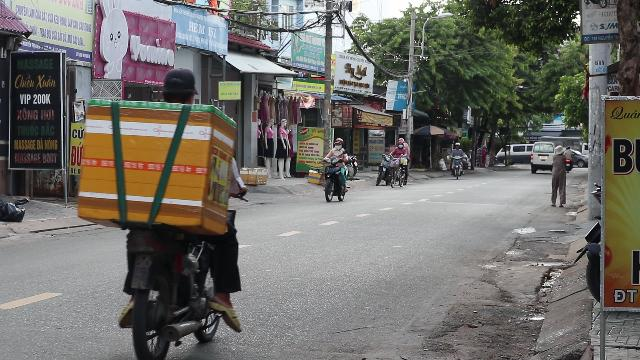motorcyclist: (75, 65, 248, 357)
nohelmet: (160, 68, 197, 105)
